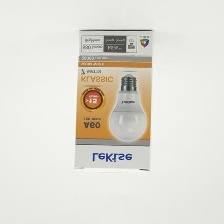carton: (69, 25, 158, 177)
